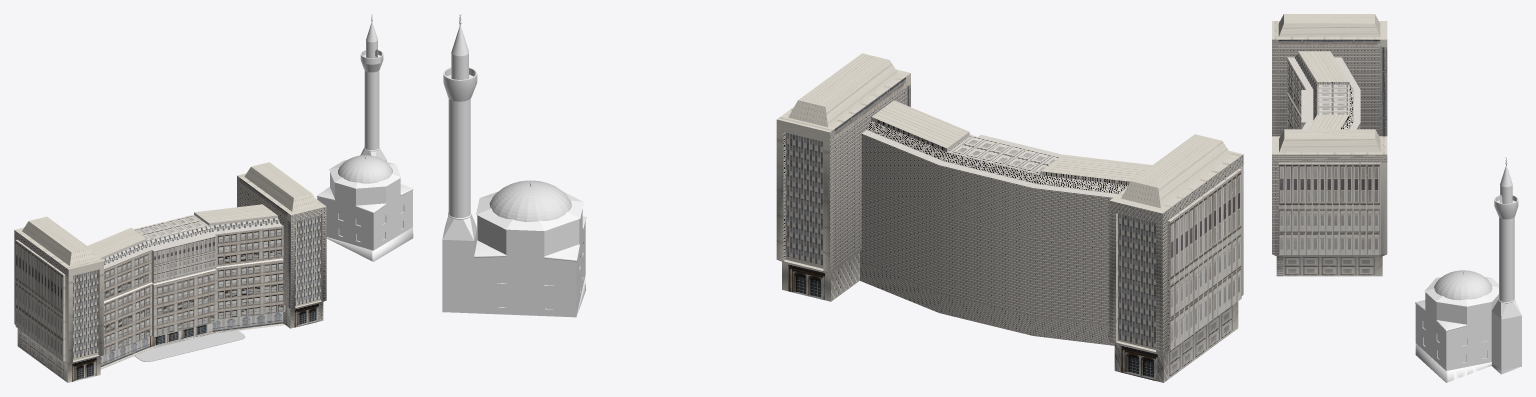
The model's file is Cairo.FBX.
3 renders of one model, left to right at view 1: azimuth 30°, elevation 25°; view 2: azimuth 150°, elevation 25°; view 3: azimuth 270°, elevation 25°, orthographic. The views are drawn at different scales.
Parts seen in each view (by area): view 1: Box001, Box002, Group_001, Box003, Line002, Group_003; view 2: Box001, Box002, Box003, Group_001, Group_003; view 3: Box003, Group_001, Box002, Box001, Group_003.
Boxes of the visible parts, bbox=[...] form: Box001: bbox=[87, 204, 285, 369]; Box002: bbox=[14, 216, 103, 382]; Group_001: bbox=[316, 22, 413, 261]; Box003: bbox=[237, 162, 326, 328]; Line002: bbox=[135, 330, 245, 361]; Group_003: bbox=[338, 155, 392, 183]; Box001: bbox=[860, 100, 1152, 345]; Box002: bbox=[1109, 134, 1243, 382]; Box003: bbox=[776, 53, 910, 301]; Group_001: bbox=[442, 26, 586, 317]; Group_003: bbox=[489, 180, 571, 221]; Box003: bbox=[1272, 129, 1387, 276]; Group_001: bbox=[1415, 166, 1521, 382]; Box002: bbox=[1272, 14, 1387, 136]; Box001: bbox=[1287, 51, 1360, 129]; Group_003: bbox=[1434, 270, 1492, 300].
Size of the model in its own units: 411 by 189 by 195.
